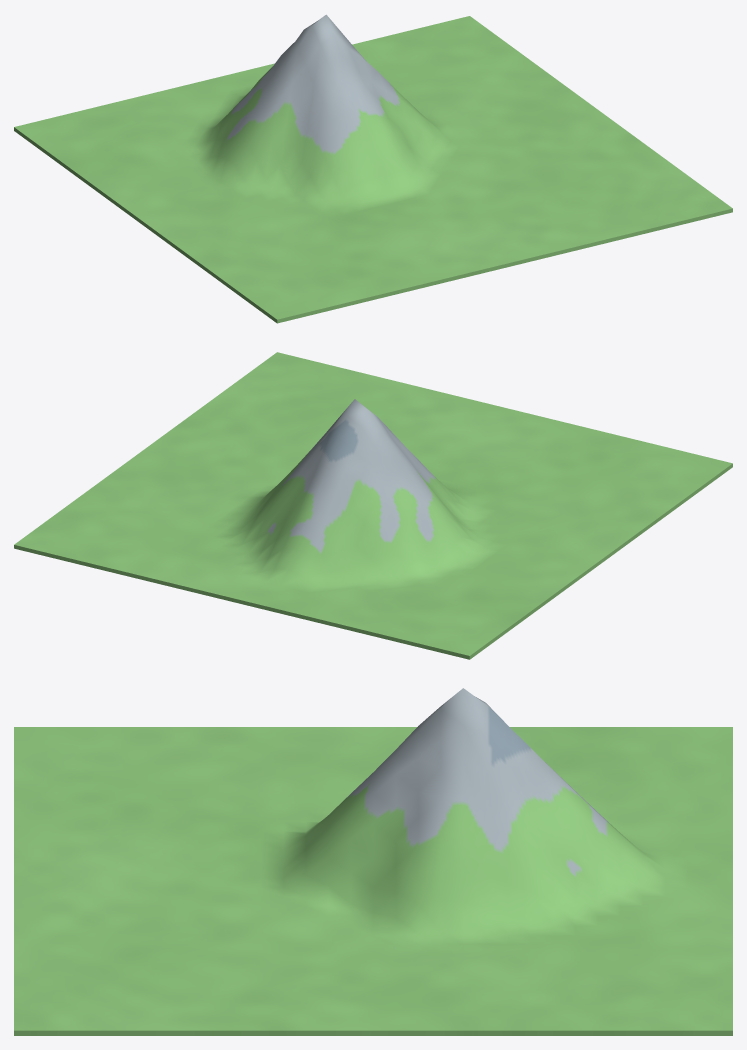
Rendered from Grass_RockyMountains_06.obj.
The picture shows the model from 3 angles, top to bottom: view 1: azimuth 30°, elevation 25°; view 2: azimuth 150°, elevation 25°; view 3: azimuth 270°, elevation 25°; orthographic projection. The views are drawn at different scales.
Bounding box in the file's own units: 10 × 2.86 × 10.
1 material, 1 textured.
